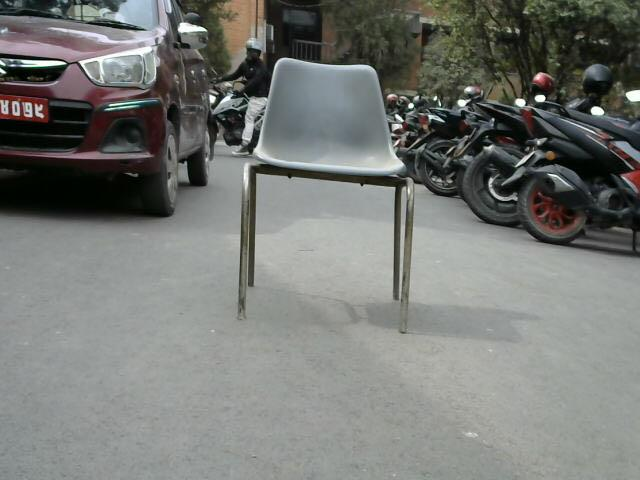Car: (2, 1, 197, 238)
Motorcycle: (431, 91, 626, 244)
Road: (9, 219, 640, 476)
